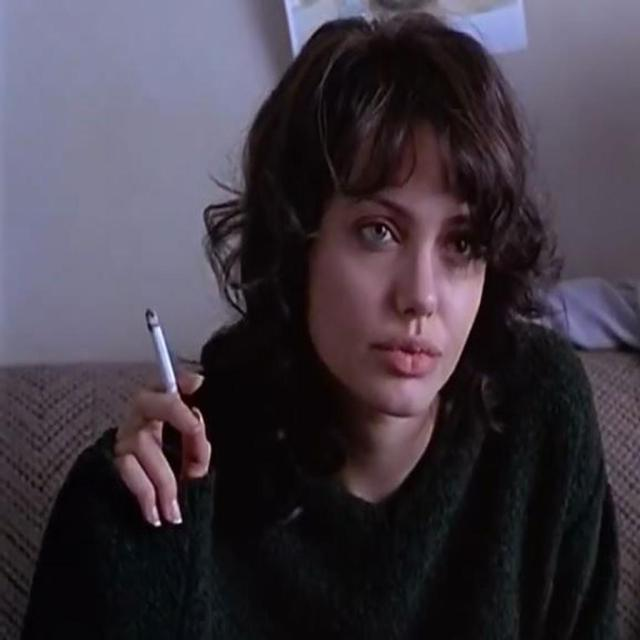smoking: (99, 5, 524, 528)
